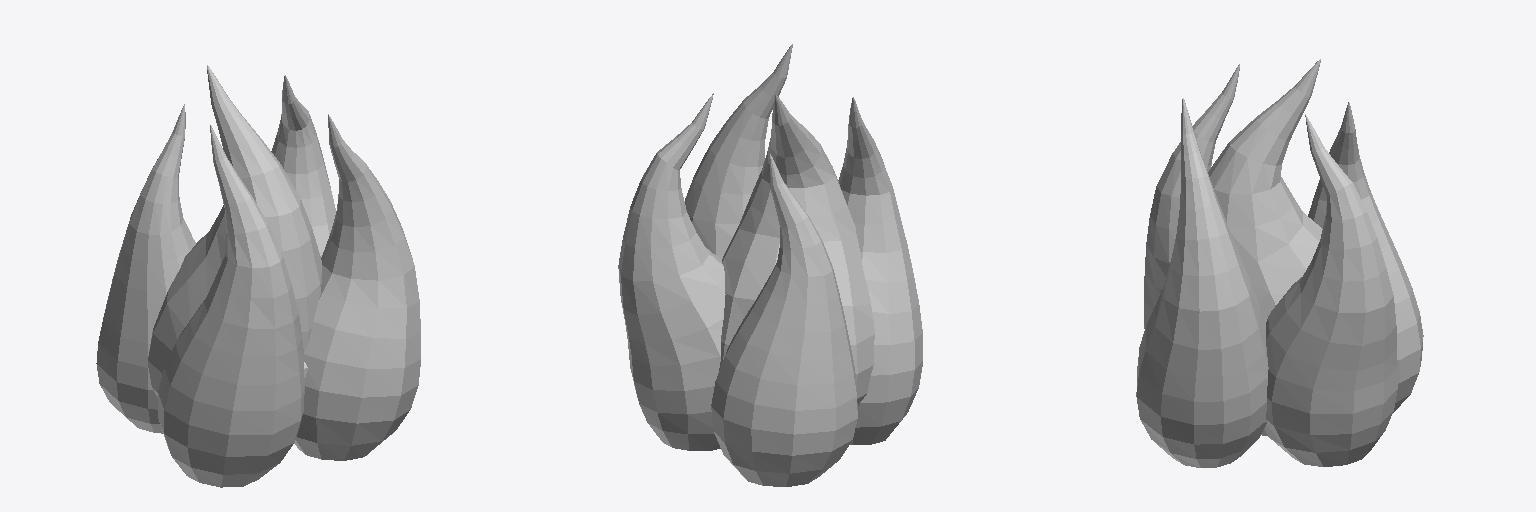
The model's file is fire_000049.obj.
3 views of the same model, side by side, from view 1: azimuth 30°, elevation 25°; view 2: azimuth 150°, elevation 25°; view 3: azimuth 270°, elevation 25° (orthographic).
Visible parts, largest first — view 1: flame_NurbsPath.015; view 2: flame_NurbsPath.015; view 3: flame_NurbsPath.015.
Boxes of the visible parts, x1=… form: flame_NurbsPath.015: x1=96, y1=65, x2=420, y2=487; flame_NurbsPath.015: x1=618, y1=44, x2=922, y2=486; flame_NurbsPath.015: x1=1136, y1=59, x2=1423, y2=467.
Size of the model in its own units: 0.7689 by 1.13 by 0.8024.